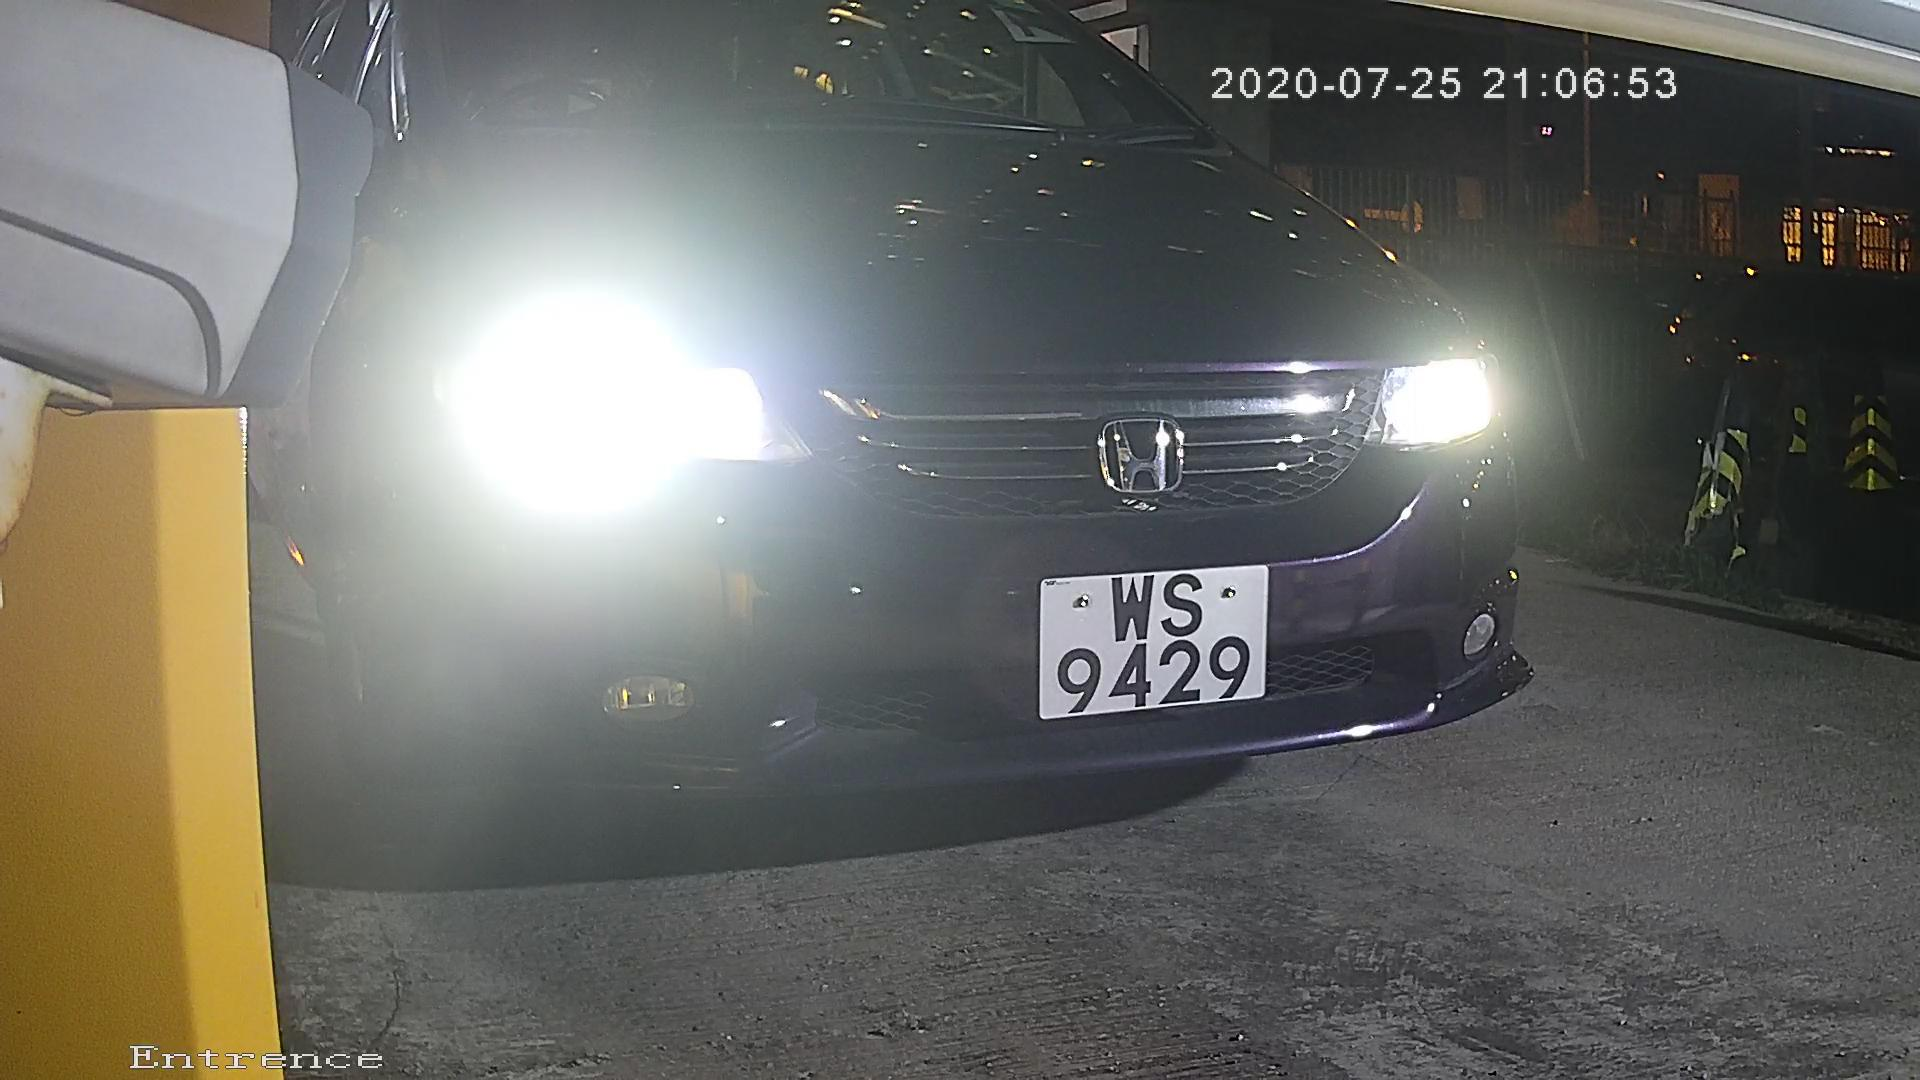License Plate: (1012, 550, 1295, 738)
